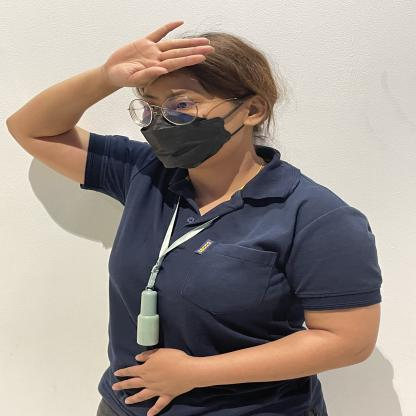Sick: (56, 1, 267, 97)
